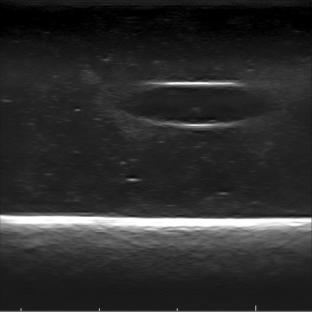vessel: (138, 79, 260, 130)
